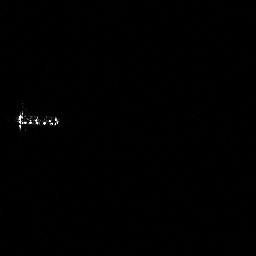ship: (11, 105, 63, 133)
